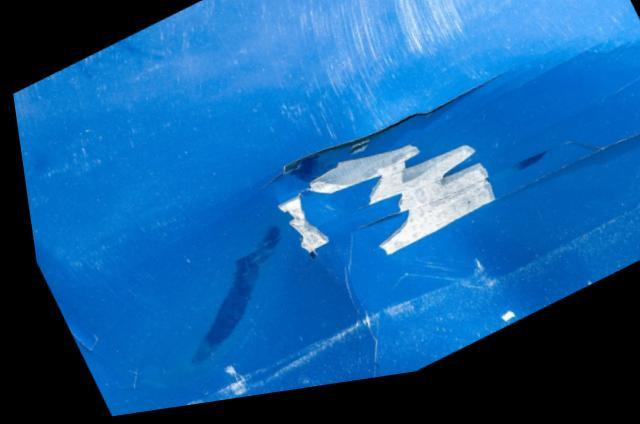dent: (25, 60, 640, 418)
scratch: (268, 0, 479, 139)
